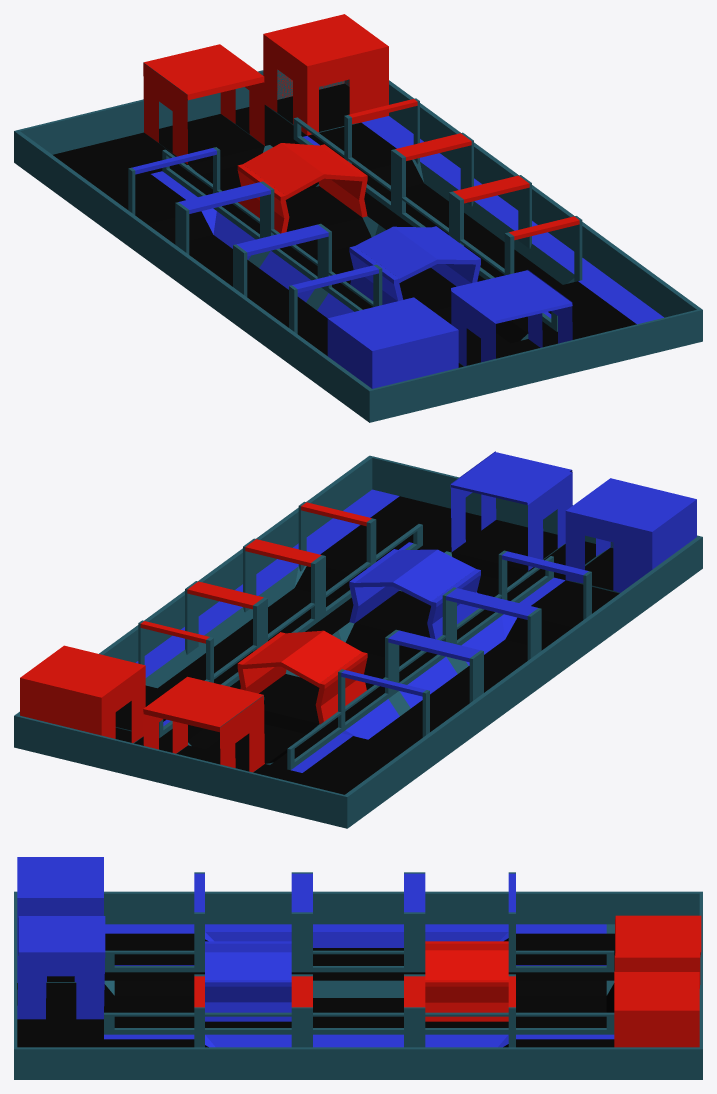
The model's file is pvp_map_xxxl_big_fps_pve.glb.
3 views of the same model, one above another, from view 1: azimuth 30°, elevation 25°; view 2: azimuth 150°, elevation 25°; view 3: azimuth 270°, elevation 25° (orthographic). The views are drawn at different scales.
Parts seen in each view (by area): view 1: Cube_0; view 2: Cube_0; view 3: Cube_0.
Part boxes in pixels (box(x1,y1,x2,y2)): Cube_0: box(14, 14, 702, 422); Cube_0: box(14, 451, 702, 828); Cube_0: box(14, 857, 702, 1079).
Bounding box in the file's own units: 38.18 × 9.3 × 70.53.
